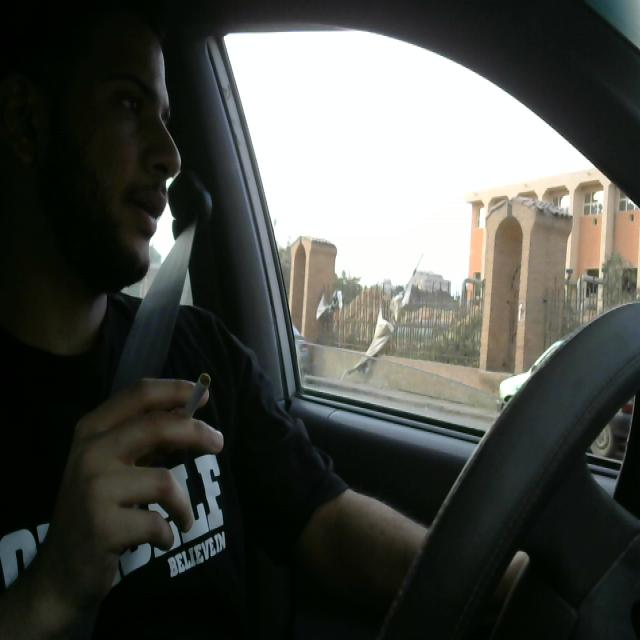smoking: (166, 368, 213, 479)
